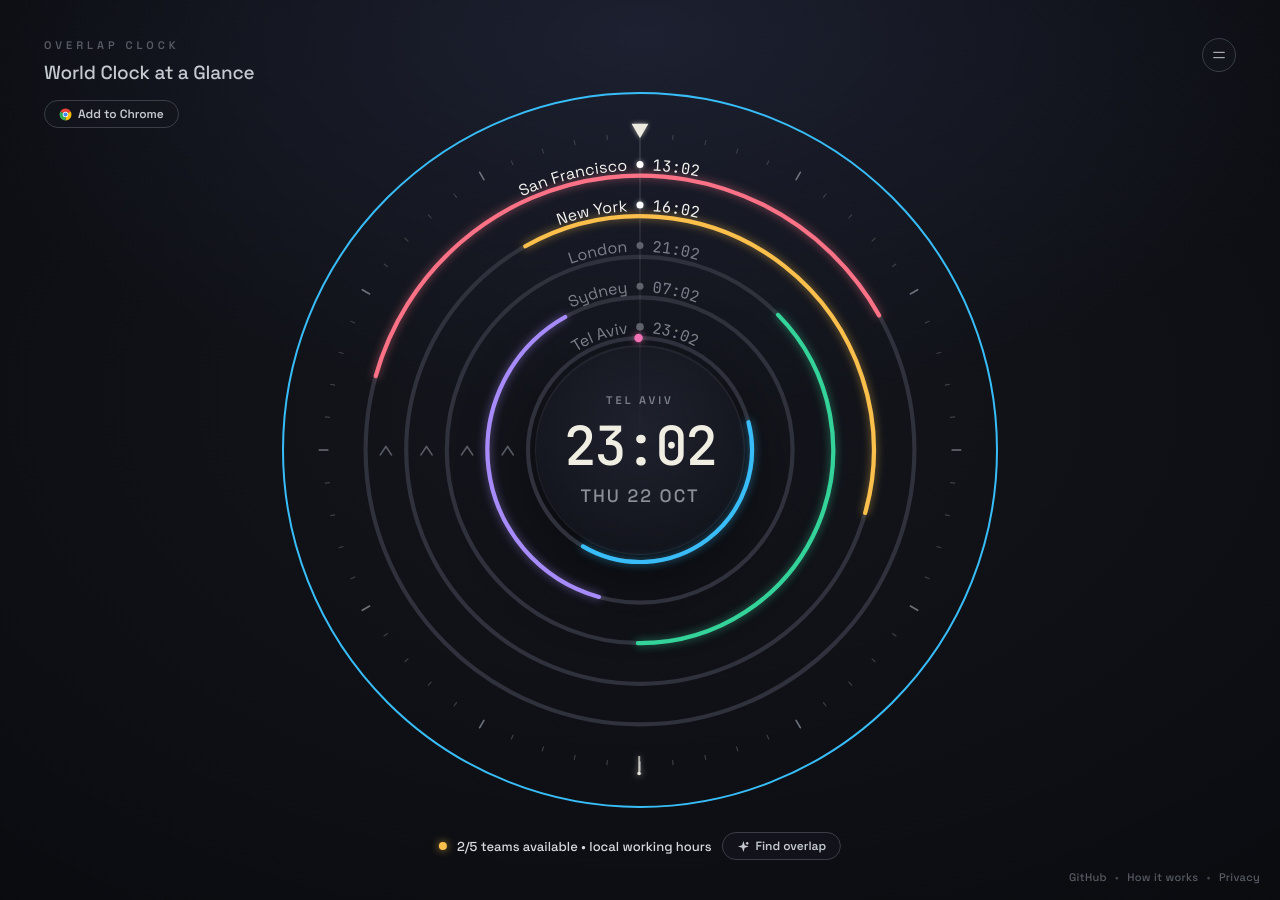
App — Remove Meeting (ControlCluster scrub button) › deletes the Google Calendar event, removes the meeting, resets the scrub, and shows a toast
The image size is (1280, 900).
Press Arrowup
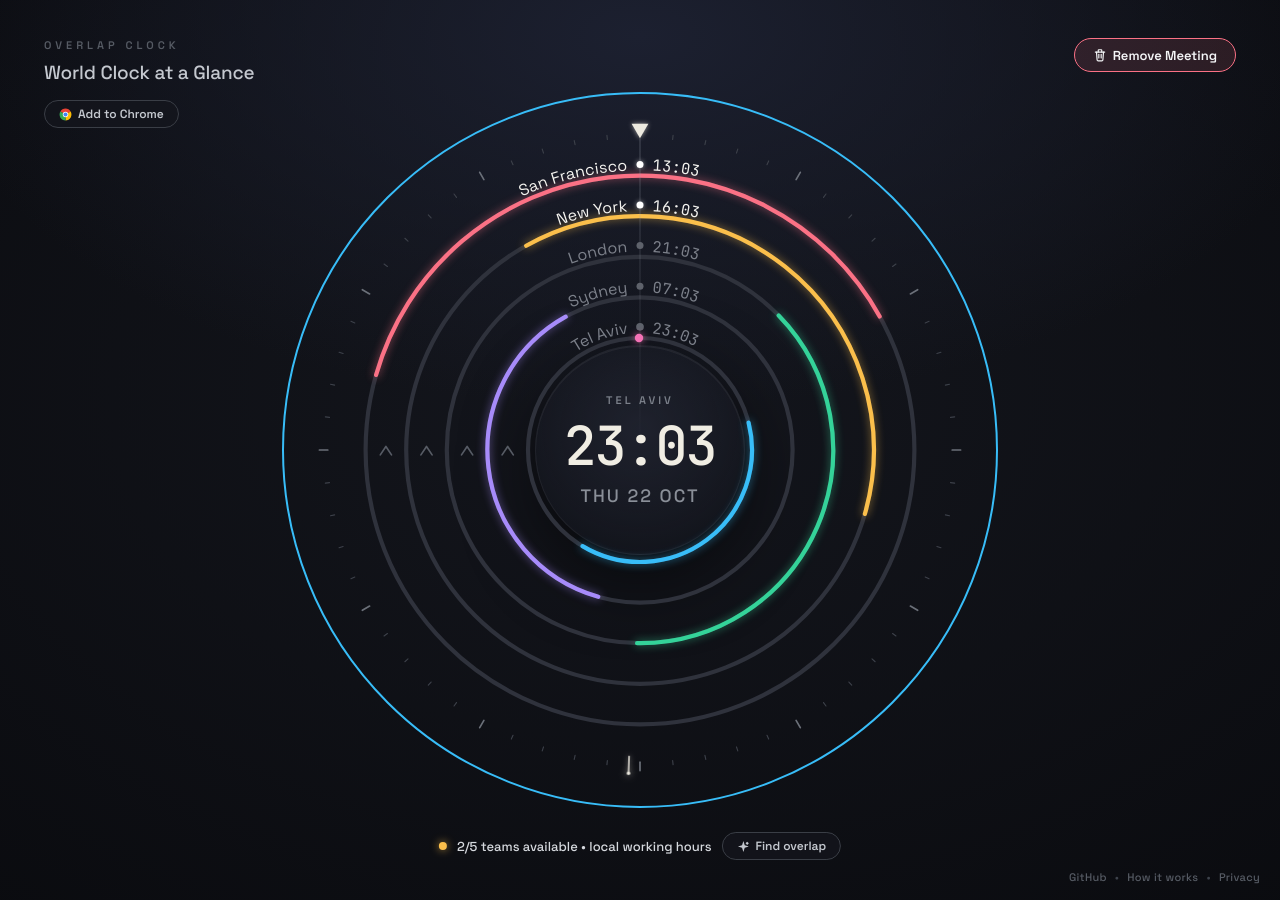
Press Arrowup
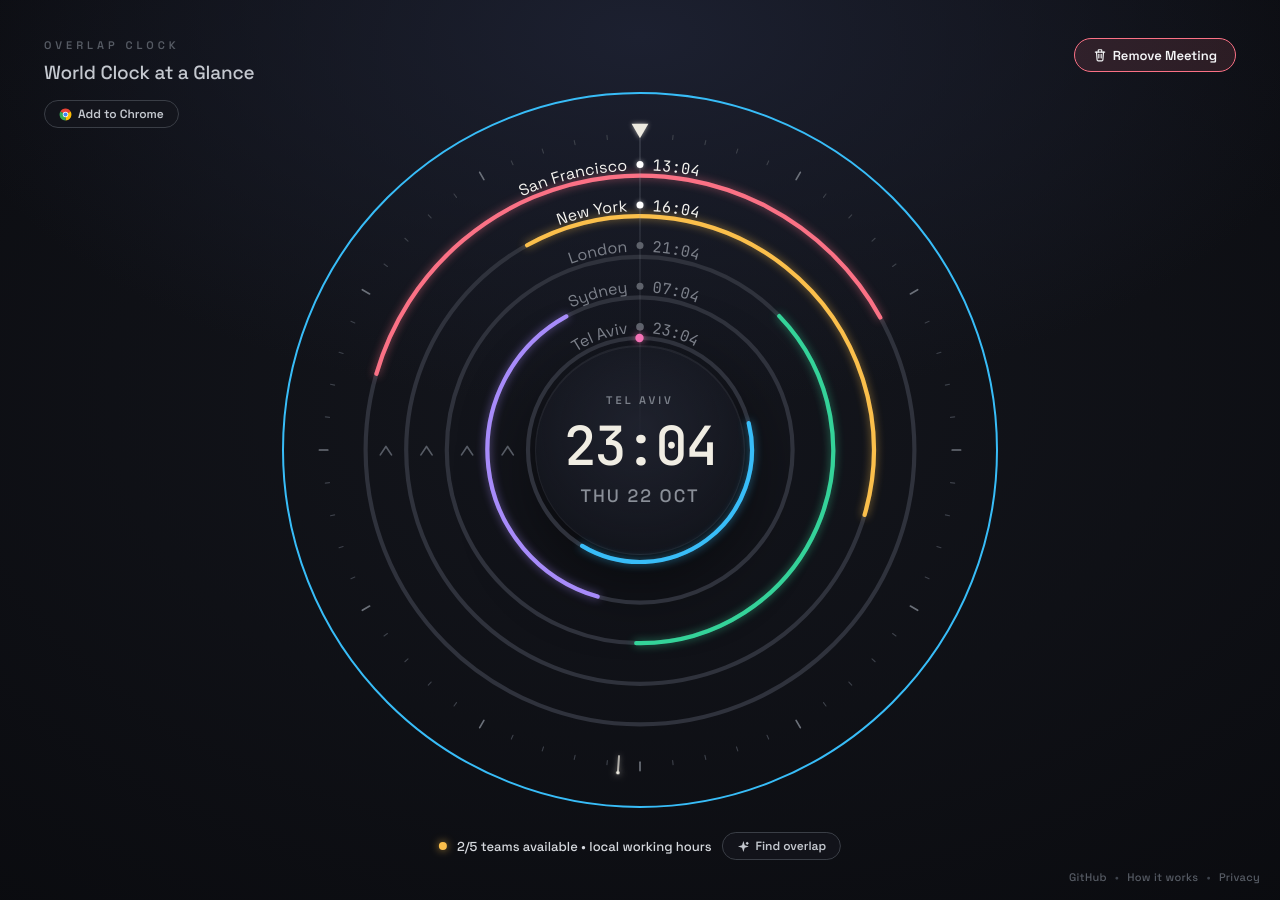
Press Arrowup
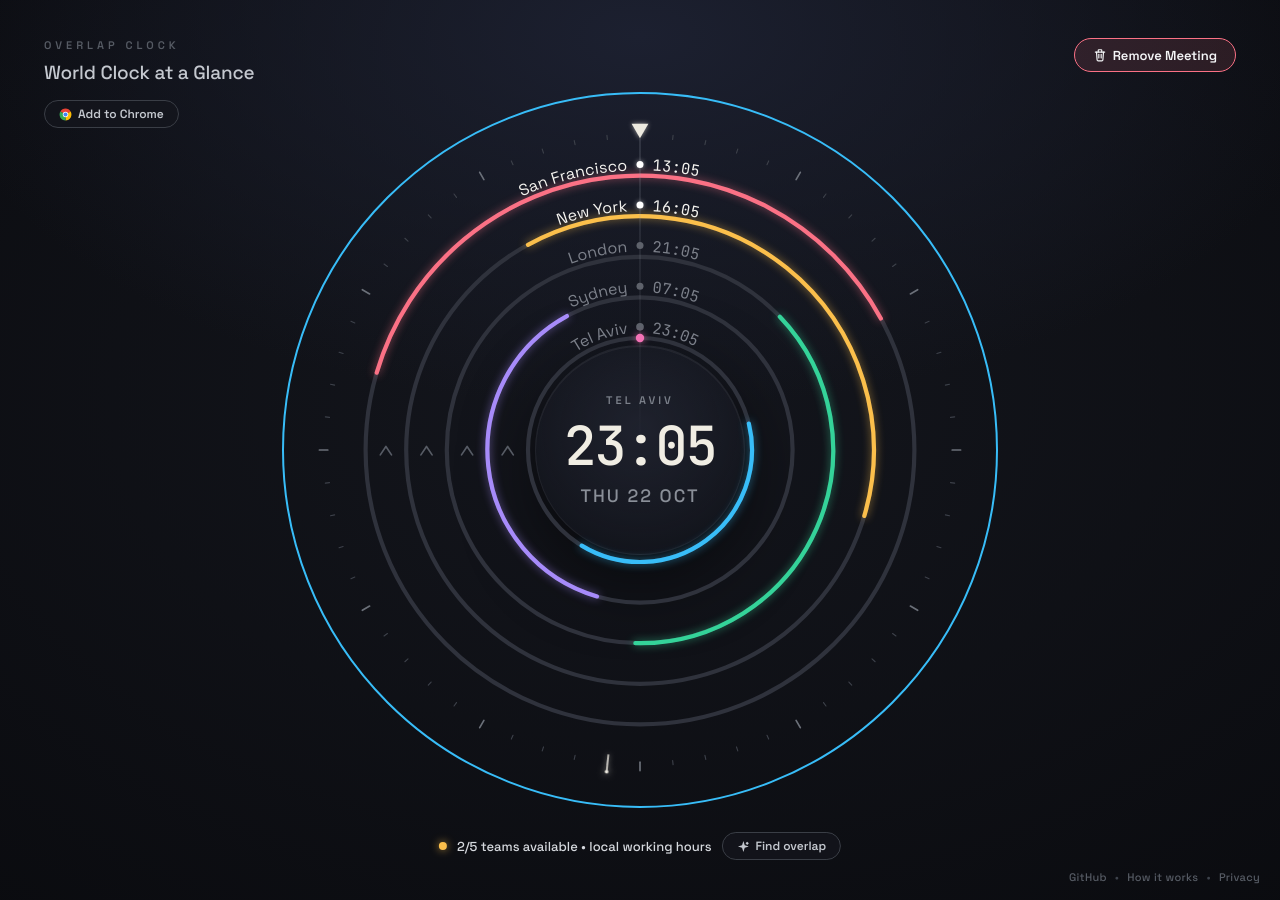
Click the button with test id "control-remove-meeting-button" at {"x": 1155, "y": 55}, box top-left (1074, 38), bottom-right (1236, 72)
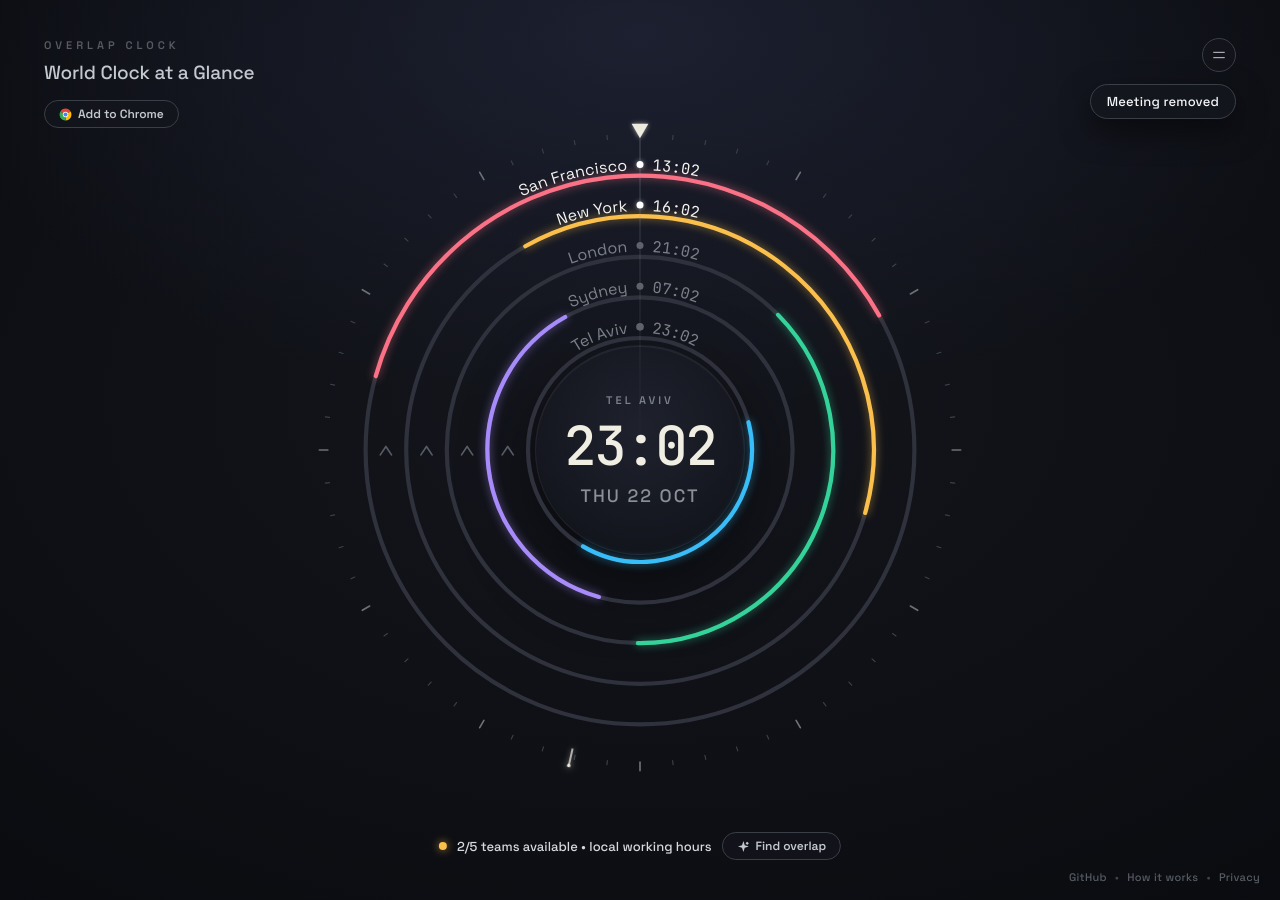
Result: the message with test id "toast-message" reads "Meeting removed" at top-left (1107, 93), bottom-right (1219, 110)
Result: the button with test id "control-remove-meeting-button" is gone
